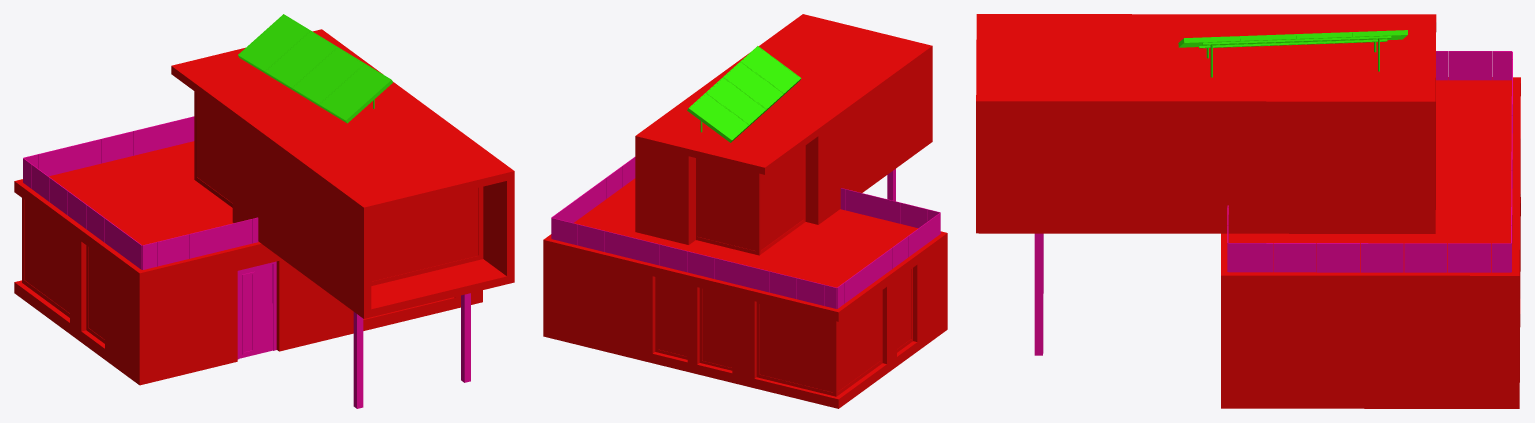
File: House01.fbx
3 renders of one model, left to right at view 1: azimuth 30°, elevation 25°; view 2: azimuth 150°, elevation 25°; view 3: azimuth 270°, elevation 25°, orthographic. The views are drawn at different scales.
Parts seen in each view (by area): view 1: House01; view 2: House01; view 3: House01.
Boxes of the visible parts, <box> form: House01: <box>14,14,514,408</box>; House01: <box>543,14,947,408</box>; House01: <box>976,14,1520,408</box>.
Bounding box in the file's own units: 1400 × 1013 × 1620.
